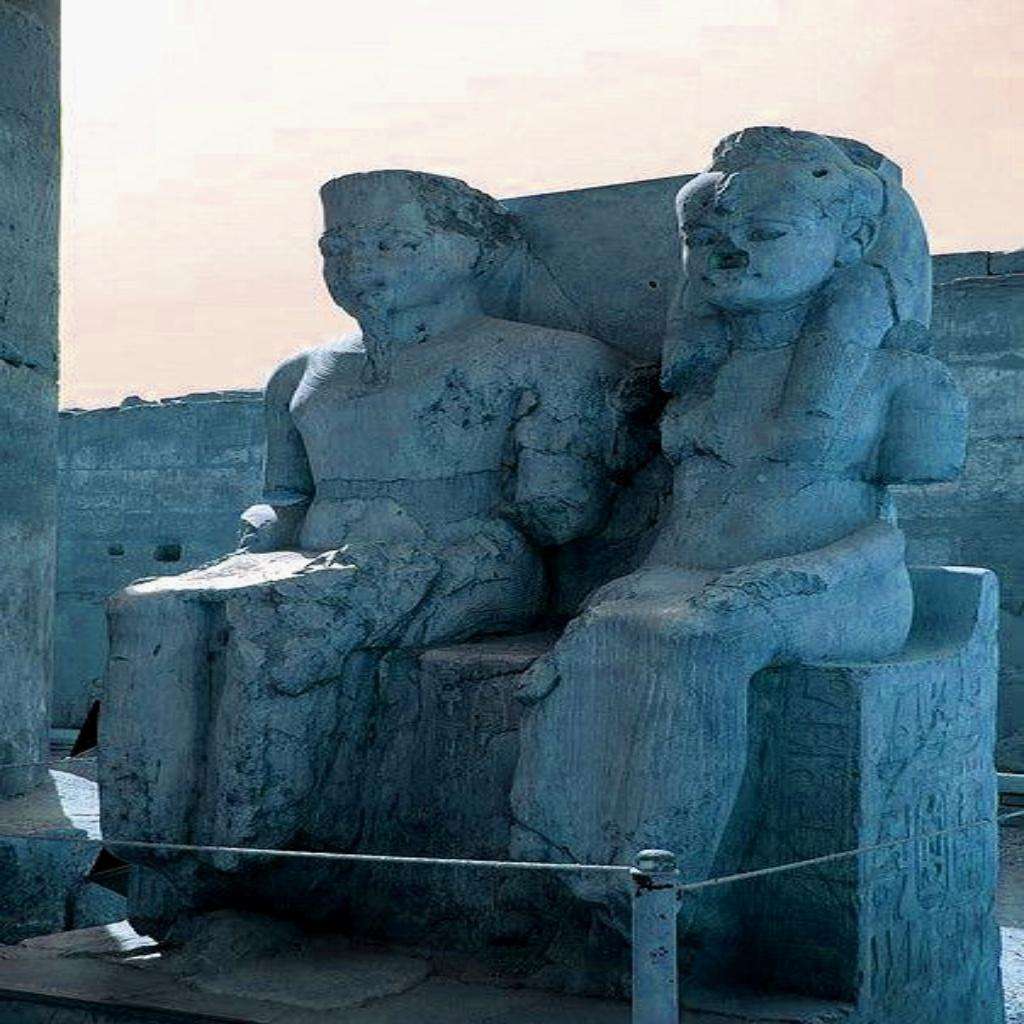Statue of Ankhesenamun: (501, 122, 975, 908)
Statue of Tutankhamun: (82, 165, 620, 880)
